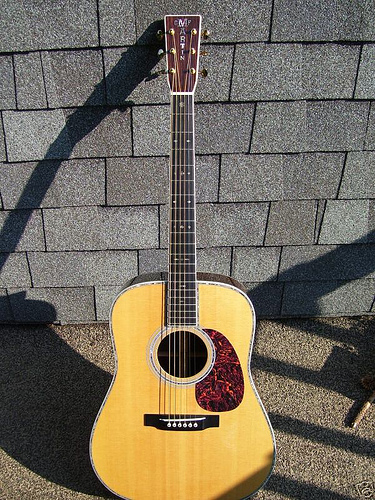guitar: (83, 9, 281, 500)
